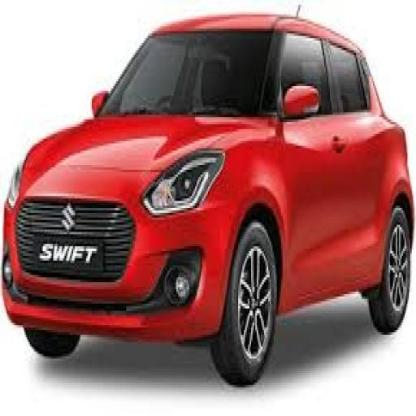car: (0, 6, 416, 389)
